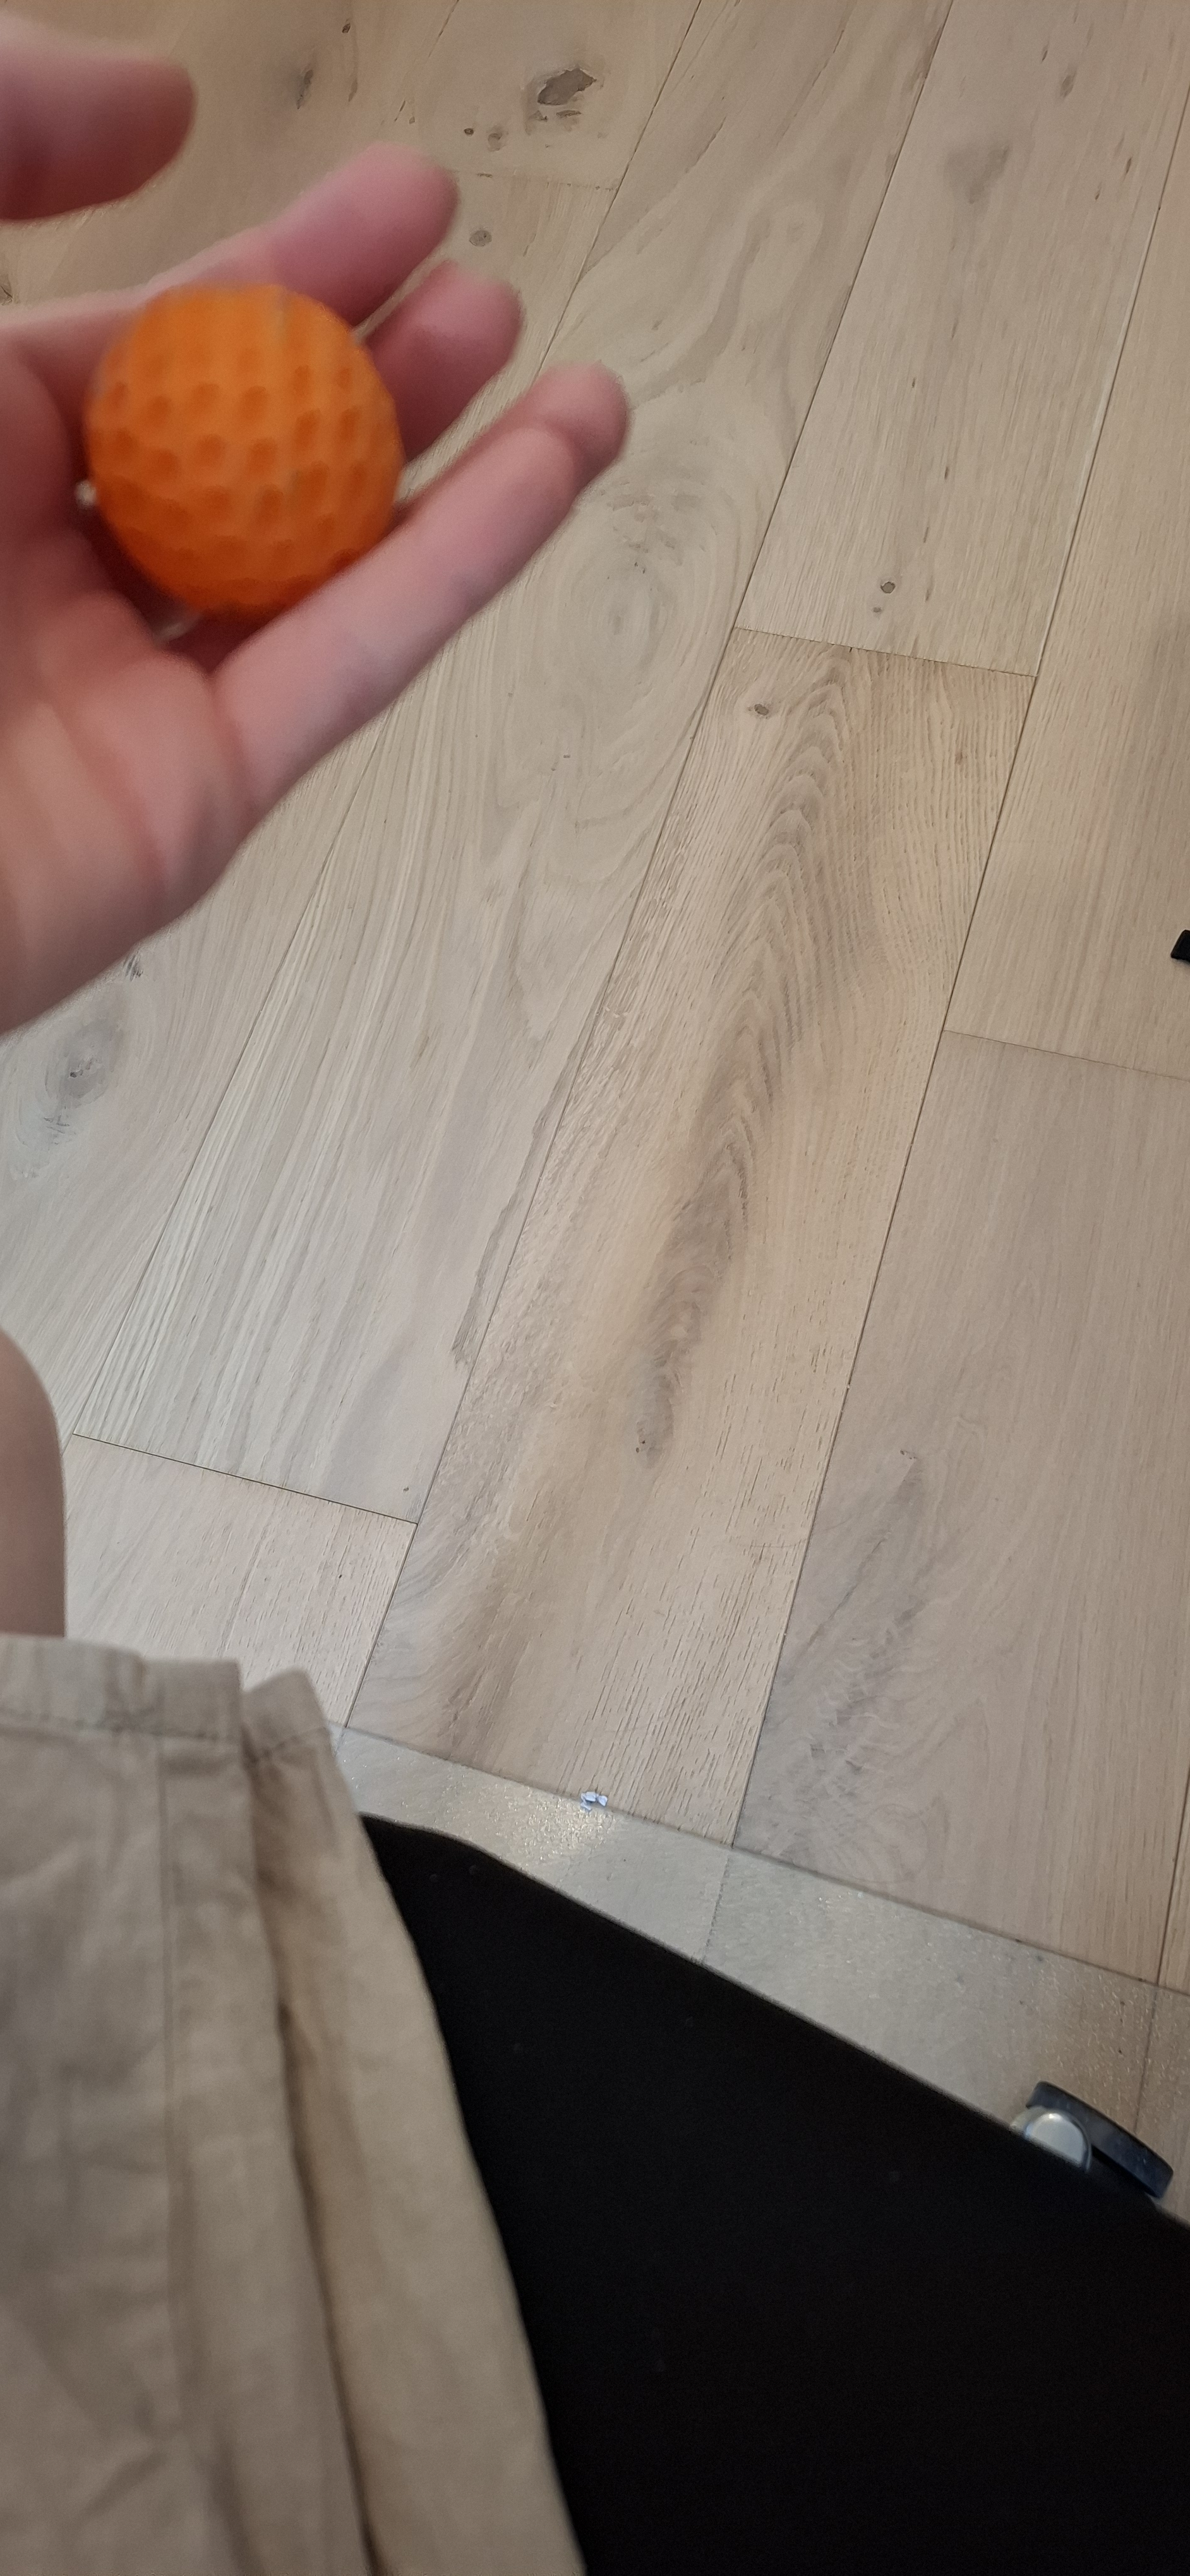ball: (128, 1709, 281, 2392)
